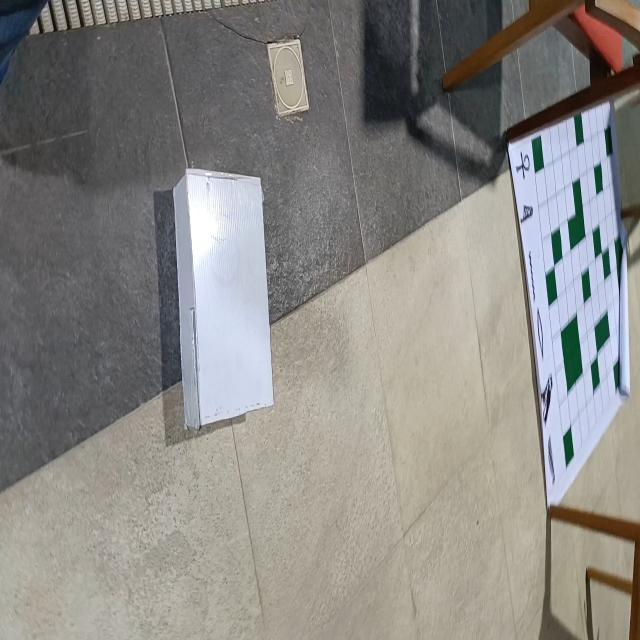Cuboid: (171, 166, 275, 431)
